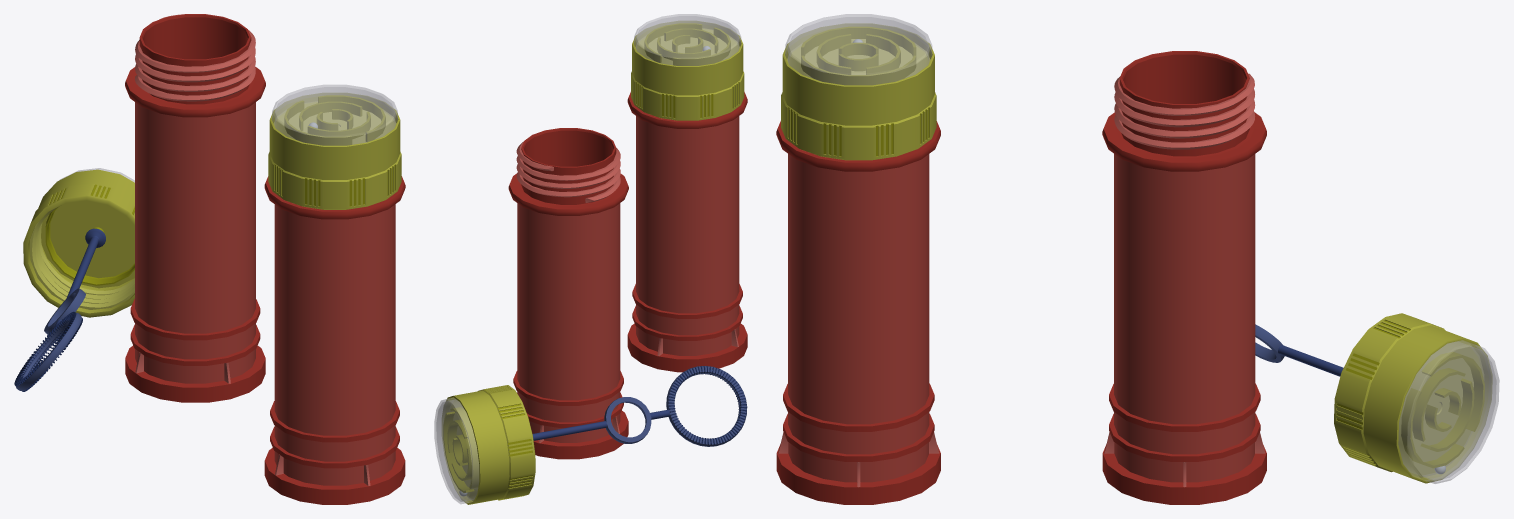
Rendered from Bubble Blower.glb.
3 renders of one model, left to right at view 1: azimuth 30°, elevation 25°; view 2: azimuth 150°, elevation 25°; view 3: azimuth 270°, elevation 25°, orthographic. The views are drawn at different scales.
Visible parts, largest first — view 1: Cylinder.014, Cylinder, Cylinder.001, Cylinder.020, Cylinder.012, SpiroFit.003, Cylinder.015, Cylinder.028, Cylinder.019, Cylinder.005, Cylinder.025, Cylinder.004 (+6 smaller); view 2: Cylinder.014, Cylinder, Cylinder.001, Cylinder.020, Cylinder.012, Cylinder.023, SpiroFit.003, Cylinder.015, Cylinder.024, Cylinder.025, Cylinder.019, Cylinder.005 (+7 smaller); view 3: Cylinder.014, Cylinder, Cylinder.020, Cylinder.001, Cylinder.023, Cylinder.012, Cylinder.024, Cylinder.015, SpiroFit.003, Cylinder.019, Cylinder.005, Cylinder.004 (+3 smaller).
Part boxes in pixels (x1,y1,x2,y2): Cylinder.014: [125, 14, 265, 402]; Cylinder: [264, 204, 405, 504]; Cylinder.001: [268, 93, 401, 209]; Cylinder.020: [23, 169, 134, 317]; Cylinder.012: [272, 84, 397, 145]; SpiroFit.003: [134, 14, 255, 101]; Cylinder.015: [284, 95, 385, 145]; Cylinder.028: [30, 206, 134, 309]; Cylinder.019: [125, 66, 265, 117]; Cylinder.005: [264, 176, 405, 219]; Cylinder.025: [16, 312, 81, 391]; Cylinder.004: [270, 401, 399, 442]; Cylinder.014: [517, 128, 628, 459]; Cylinder: [627, 116, 747, 372]; Cylinder.001: [631, 21, 744, 120]; Cylinder.020: [442, 385, 535, 504]; Cylinder.012: [634, 14, 741, 65]; Cylinder.023: [434, 397, 479, 504]; SpiroFit.003: [516, 141, 620, 202]; Cylinder.015: [644, 23, 730, 65]; Cylinder.024: [443, 407, 479, 492]; Cylinder.025: [666, 366, 747, 446]; Cylinder.019: [508, 173, 628, 215]; Cylinder.005: [627, 92, 747, 128]; Cylinder.014: [1102, 51, 1266, 504]; Cylinder: [776, 154, 940, 504]; Cylinder.020: [1334, 313, 1492, 483]; Cylinder.001: [781, 23, 936, 160]; Cylinder.023: [1398, 340, 1499, 483]; Cylinder.012: [785, 14, 932, 85]; Cylinder.024: [1401, 352, 1484, 468]; Cylinder.015: [801, 26, 916, 85]; SpiroFit.003: [1114, 73, 1255, 149]; Cylinder.019: [1102, 112, 1266, 171]; Cylinder.005: [776, 121, 940, 171]; Cylinder.004: [783, 383, 934, 431].
Bounding box in the file's own units: 481 × 668 × 1024.
